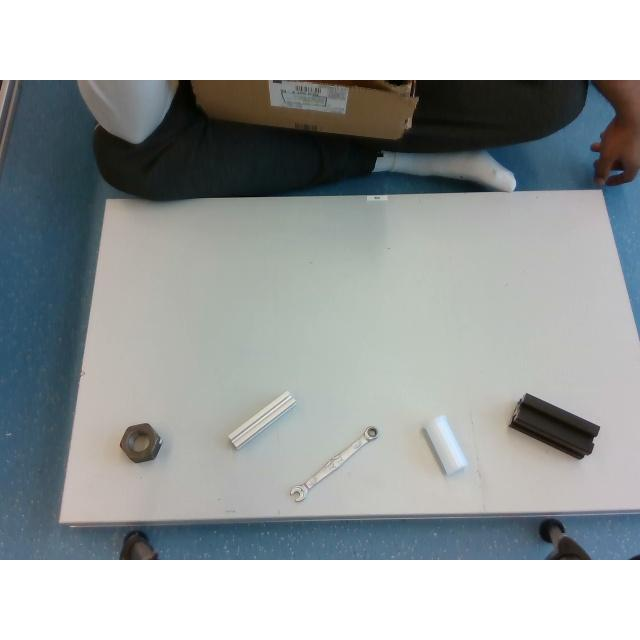F20_20_G: (228, 392, 296, 448)
M30: (120, 422, 162, 462)
S40_40_B: (508, 394, 600, 458)
Spacer: (424, 415, 468, 475)
Wrench: (290, 426, 380, 502)
